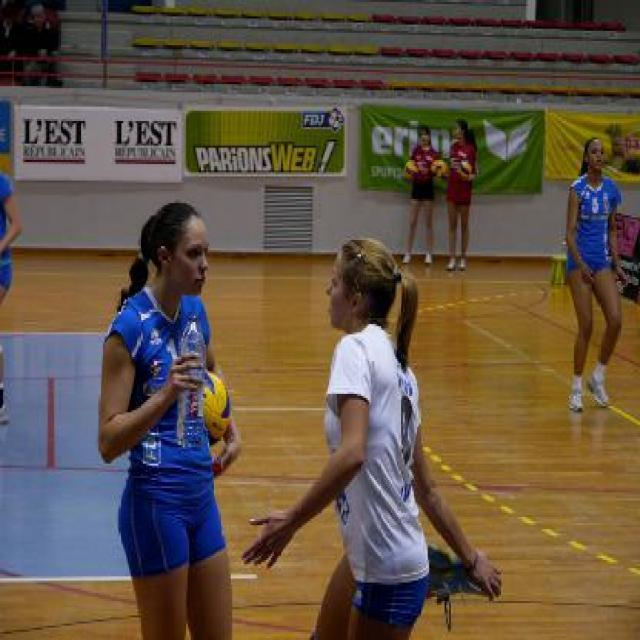volleyball: (200, 372, 232, 444), (456, 162, 475, 181), (403, 162, 420, 183), (432, 160, 446, 179)
